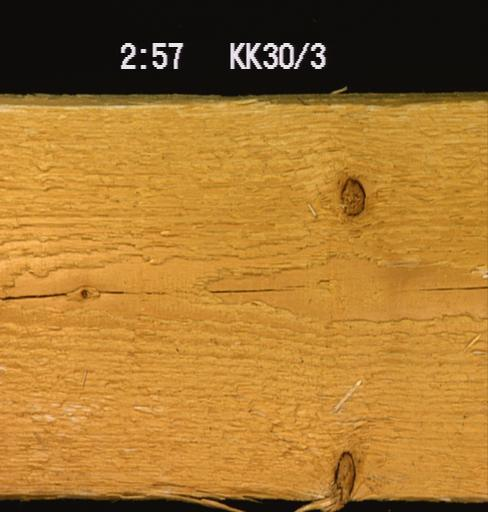dry_knot: (337, 174, 365, 219)
edge_knot: (330, 448, 357, 499)
split: (3, 272, 310, 296), (390, 273, 486, 296)
wave: (0, 93, 485, 108)
